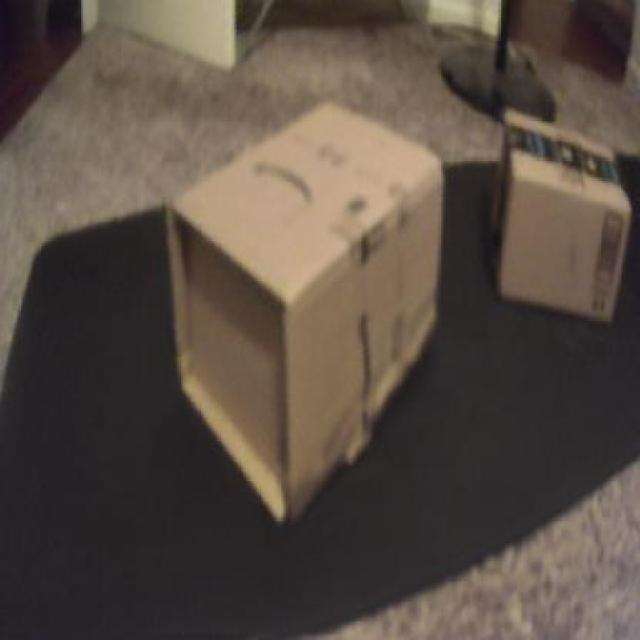cardboxes: (164, 93, 444, 533), (488, 106, 632, 334)
